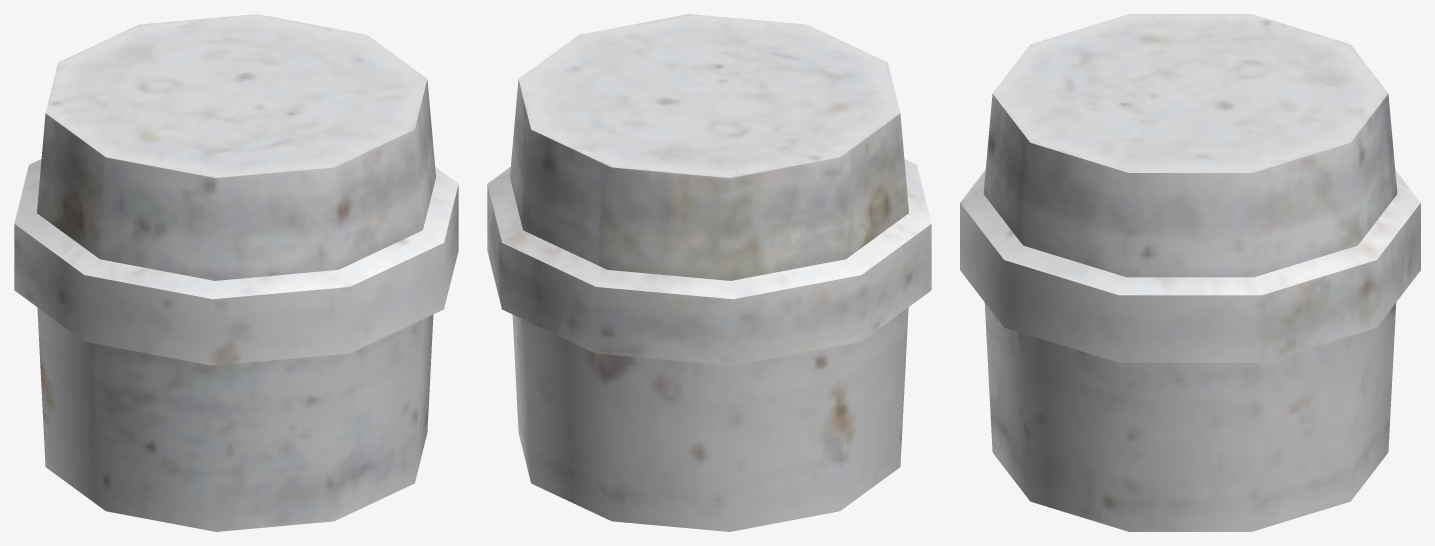
Rendered from SM_Wires_Pipes_01j.glb.
The picture shows the model from 3 angles, left to right: view 1: azimuth 30°, elevation 25°; view 2: azimuth 150°, elevation 25°; view 3: azimuth 270°, elevation 25°; orthographic projection.
Parts seen in each view (by area): view 1: SM_Wires_Pipes_01j; view 2: SM_Wires_Pipes_01j; view 3: SM_Wires_Pipes_01j.
Boxes of the visible parts, box(x1,y1,x2,y2) form: SM_Wires_Pipes_01j: box(14, 14, 458, 531); SM_Wires_Pipes_01j: box(487, 14, 931, 531); SM_Wires_Pipes_01j: box(960, 14, 1420, 531).
Size of the model in its own units: 0.0376 by 0.034 by 0.0395.
1 material, 1 textured.
